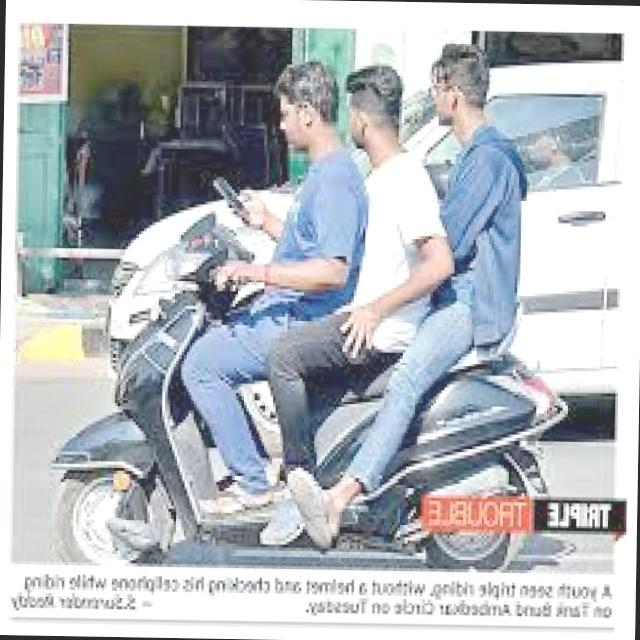motorcycle: (42, 203, 574, 572)
person: (240, 51, 370, 385), (418, 38, 532, 373), (332, 60, 434, 374)
rider_region: (49, 35, 568, 582)
